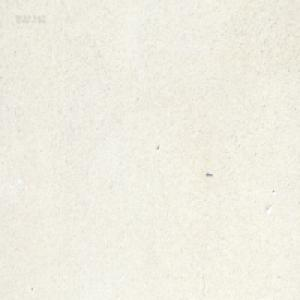Nail: (205, 171, 213, 177)
